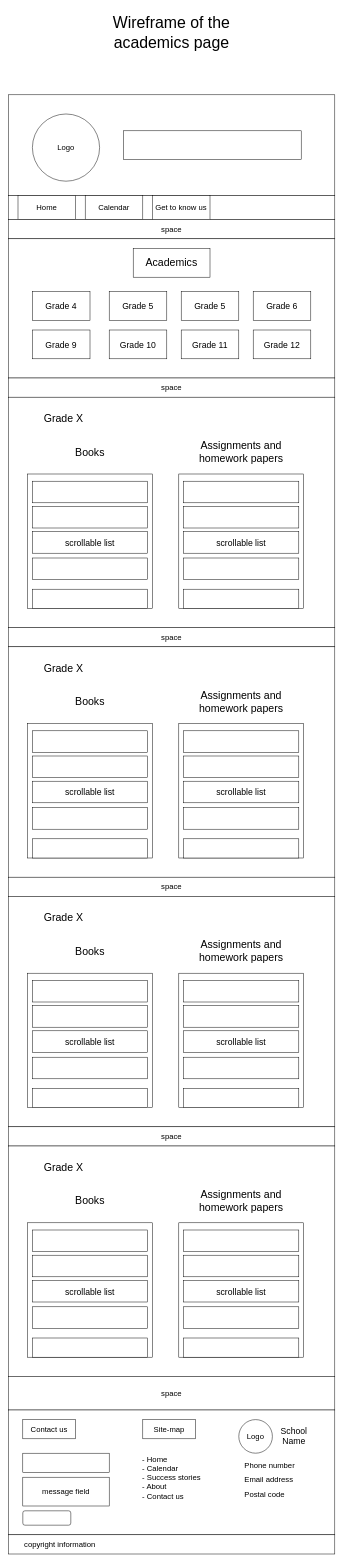
Some shapes in this 343 by 1562 pixel diagram are drawn without their labels. Here are the shapes that lost their labels. From the top down, the centre of each, then its label:
At pixel 212 145: "Moto".
At pixel 65 1462: "email field".
At pixel 46 1517: "submit".
